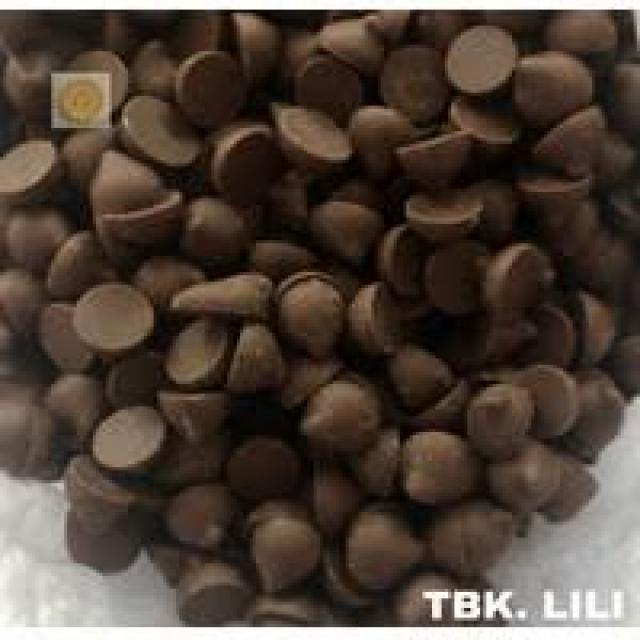Chocolate: (0, 13, 640, 627)
